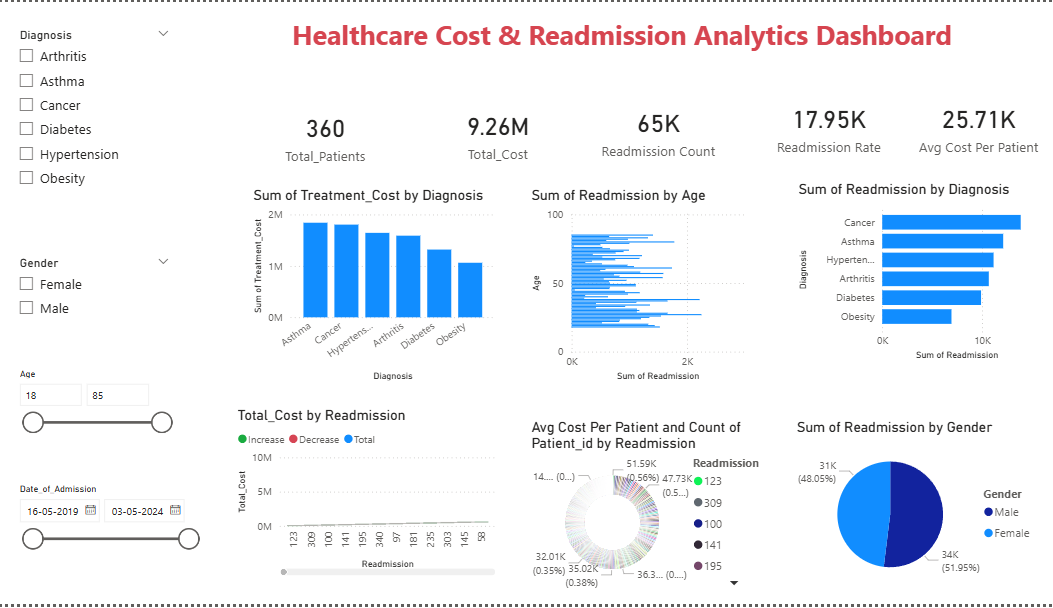

What the dashboard file says about the page in this screenshot:
{"tool":"powerbi","page":{"name":"Page 2","canvas":[1280,720],"ordinal":1},"visuals":[{"type":"card","fields":{"Values":["Healthcare_dataset.Total_Patients"]},"box":[305.8,97.4,189.6,123],"z":0},{"type":"card","fields":{"Values":["Healthcare_dataset.Total_Cost"]},"box":[515.9,102.5,182.8,111],"z":1},{"type":"card","fields":{"Values":["Healthcare_dataset.Readmission Count"]},"box":[707.2,97.4,181.1,111],"z":2},{"type":"card","fields":{"Values":["Healthcare_dataset.Readmission Rate"]},"box":[912.2,102.5,181.1,94],"z":3},{"type":"card","fields":{"Values":["Healthcare_dataset.Avg Cost Per Patient"]},"box":[1103.5,88.8,153.7,119.6],"z":4},{"type":"clusteredBarChart","fields":{"Category":["Healthcare_dataset.Age"],"Y":["Sum(Healthcare_dataset.Readmission)"]},"box":[640.6,220.4,271.6,235.7],"z":5},{"type":"pieChart","fields":{"Category":["Healthcare_dataset.Gender"],"Y":["Sum(Healthcare_dataset.Readmission)"]},"box":[958.3,498.8,298.9,208.4],"z":6},{"type":"clusteredBarChart","fields":{"Category":["Healthcare_dataset.Diagnosis"],"Y":["Sum(Healthcare_dataset.Readmission)"]},"box":[960,213.5,298.9,218.7],"z":7},{"type":"clusteredColumnChart","fields":{"Category":["Healthcare_dataset.Diagnosis"],"Y":["Sum(Healthcare_dataset.Treatment_Cost)"]},"box":[309.2,220.4,298.9,235.7],"z":8},{"type":"slicer","fields":{"Values":["Healthcare_dataset.Diagnosis"]},"box":[22.2,25.6,203.3,211.8],"z":9},{"type":"slicer","fields":{"Values":["Healthcare_dataset.Gender"]},"box":[22.2,297.2,203.3,126.4],"z":10},{"type":"slicer","fields":{"Values":["Healthcare_dataset.Age"]},"box":[22.2,432.2,203.3,100.8],"z":11},{"type":"slicer","fields":{"Values":["Healthcare_dataset.Date_of_Admission"]},"box":[22.2,570.5,235.7,136.7],"z":12},{"type":"donutChart","fields":{"Category":["Healthcare_dataset.Readmission"],"Y":["Healthcare_dataset.Avg Cost Per Patient","CountNonNull(Healthcare_dataset (2).Patient_id)"]},"box":[640.6,498.8,298.9,208.4],"z":13},{"type":"waterfallChart","fields":{"Y":["Healthcare_dataset.Total_Cost"],"Category":["Healthcare_dataset.Readmission"]},"box":[290.4,483.4,317.7,206.7],"z":14},{"type":"textbox","box":[257.9,12,1001,85.4],"z":15}]}

Visuals, with their boxes in screenshot pixels (x1, y1, x2, y2), scaled from the page's 1280x720 canvas onto the 1053x608 screenshot:
card - Healthcare_dataset.Total_Patients: l=252, t=82, r=408, b=186
card - Healthcare_dataset.Total_Cost: l=424, t=87, r=575, b=180
card - Healthcare_dataset.Readmission Count: l=582, t=82, r=731, b=176
card - Healthcare_dataset.Readmission Rate: l=750, t=87, r=899, b=166
card - Healthcare_dataset.Avg Cost Per Patient: l=908, t=75, r=1034, b=176
clusteredBarChart - Healthcare_dataset.Age x Sum(Healthcare_dataset.Readmission): l=527, t=186, r=750, b=385
pieChart - Healthcare_dataset.Gender x Sum(Healthcare_dataset.Readmission): l=788, t=421, r=1034, b=597
clusteredBarChart - Healthcare_dataset.Diagnosis x Sum(Healthcare_dataset.Readmission): l=790, t=180, r=1036, b=365
clusteredColumnChart - Healthcare_dataset.Diagnosis x Sum(Healthcare_dataset.Treatment_Cost): l=254, t=186, r=500, b=385
slicer - Healthcare_dataset.Diagnosis: l=18, t=22, r=186, b=200
slicer - Healthcare_dataset.Gender: l=18, t=251, r=186, b=358
slicer - Healthcare_dataset.Age: l=18, t=365, r=186, b=450
slicer - Healthcare_dataset.Date_of_Admission: l=18, t=482, r=212, b=597
donutChart - Healthcare_dataset.Readmission x Healthcare_dataset.Avg Cost Per Patient: l=527, t=421, r=773, b=597
waterfallChart - Healthcare_dataset.Total_Cost x Healthcare_dataset.Readmission: l=239, t=408, r=500, b=583
textbox: l=212, t=10, r=1036, b=82
